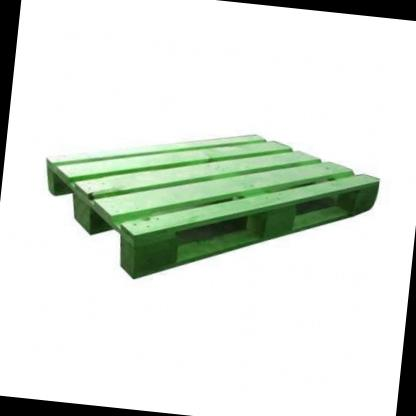BoxFace: (41, 132, 382, 282)
